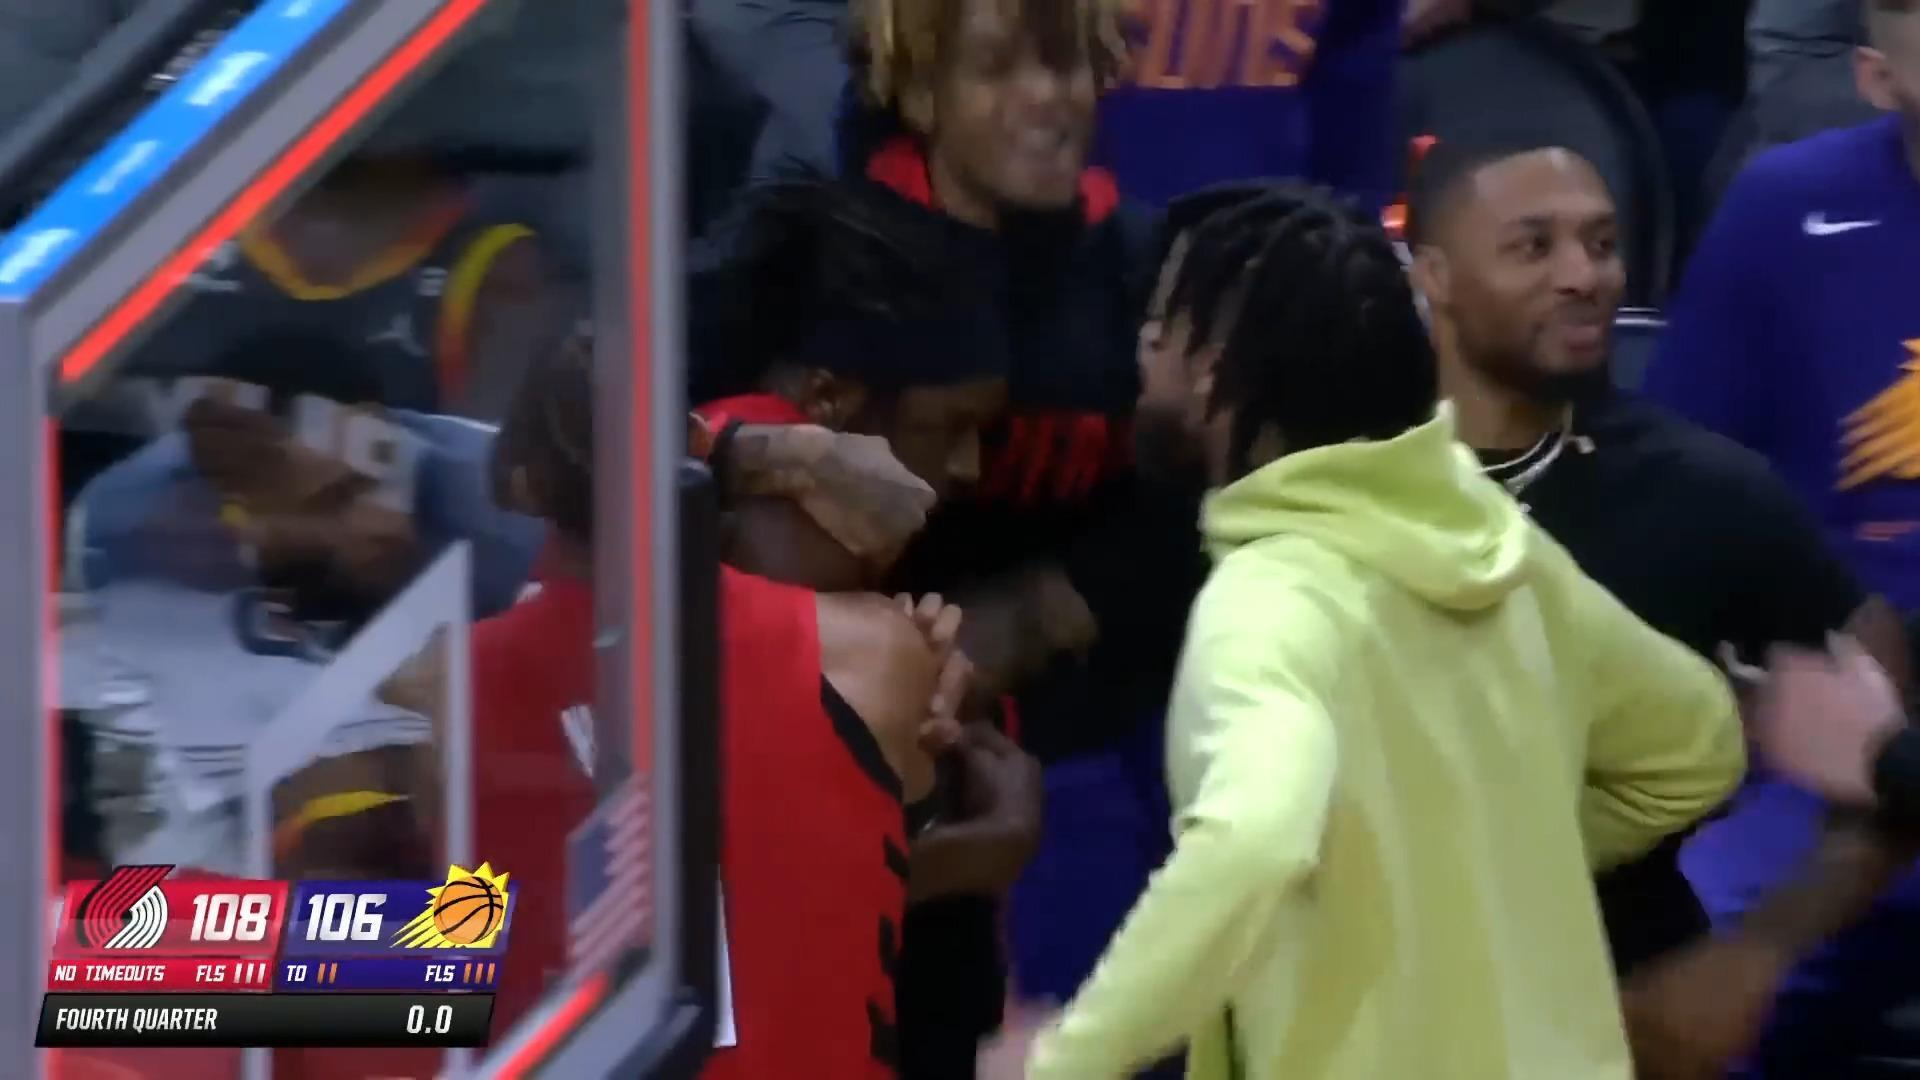basketball-player: (383, 300, 980, 1080)
